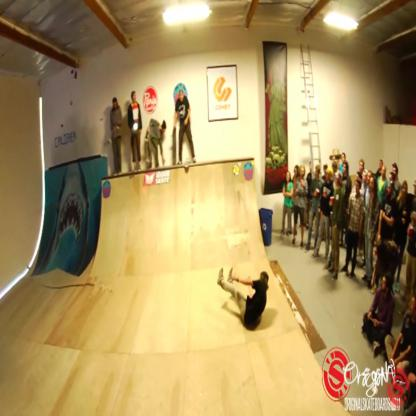Fall_Down: (218, 261, 270, 328)
